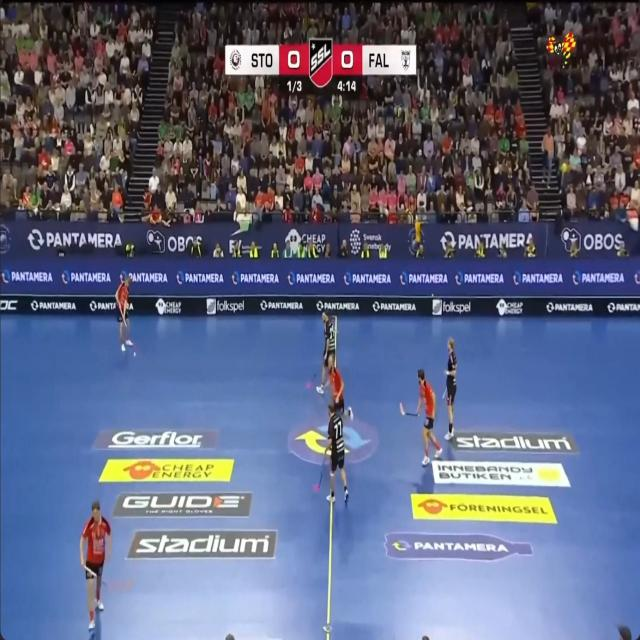player: (80, 502, 111, 629), (416, 368, 442, 466), (327, 402, 348, 502), (316, 312, 336, 393), (115, 276, 133, 350), (445, 338, 456, 439), (328, 355, 345, 414), (345, 407, 352, 419)
stick: (314, 444, 330, 490), (400, 401, 417, 416), (84, 564, 95, 578), (99, 575, 107, 587)
